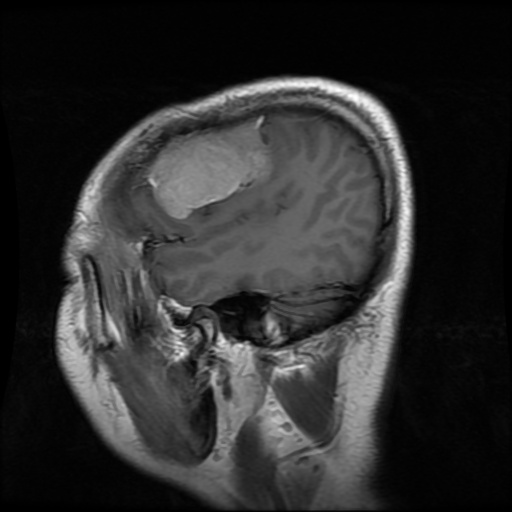meningioma: (148, 122, 270, 220)
